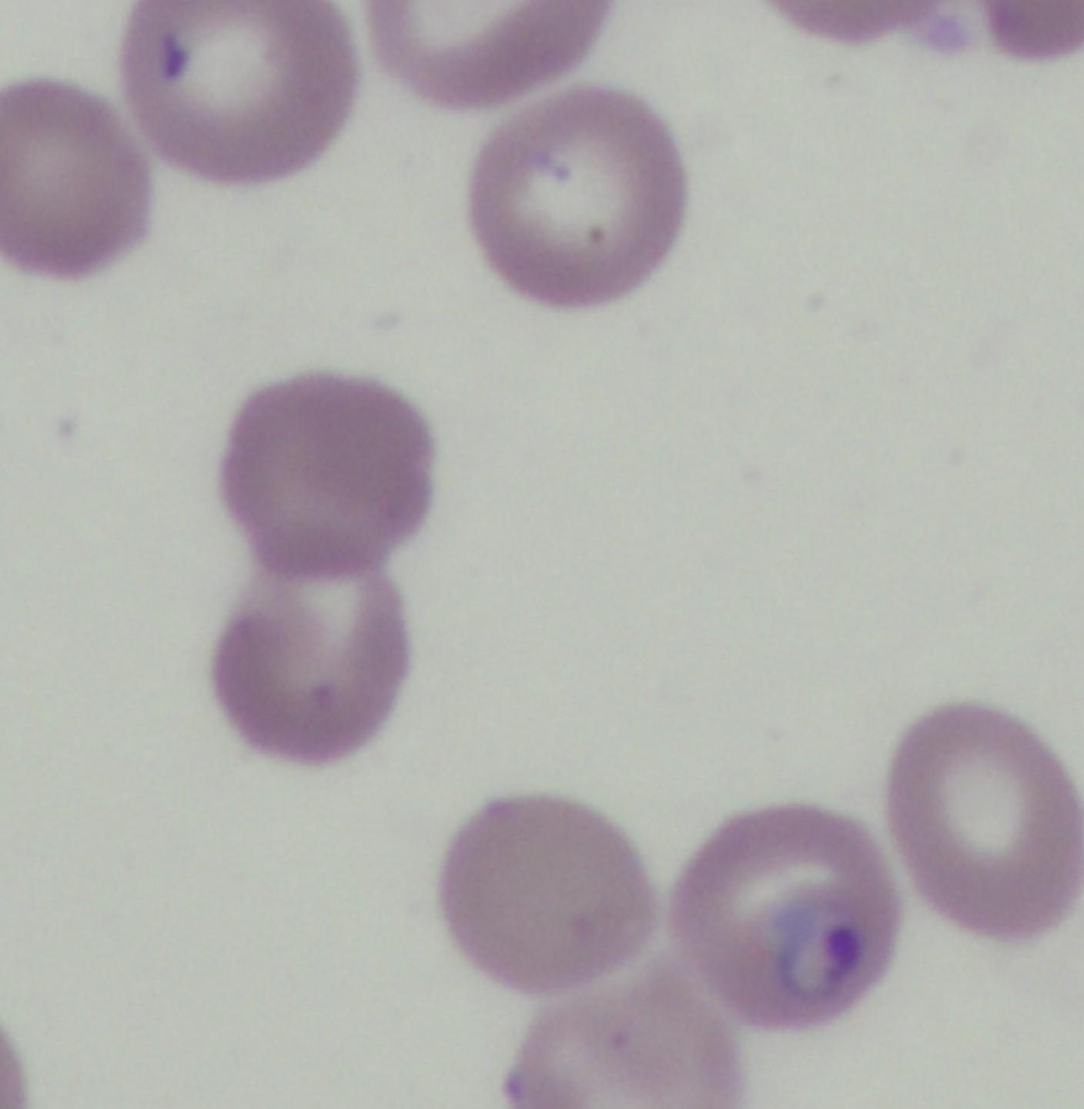Infected: (670, 804, 904, 1034)
Uninfected: (475, 91, 687, 312), (885, 706, 1084, 940), (122, 0, 362, 186), (439, 791, 656, 996), (221, 378, 437, 579), (213, 568, 408, 767), (0, 77, 159, 275), (506, 978, 740, 1109)
